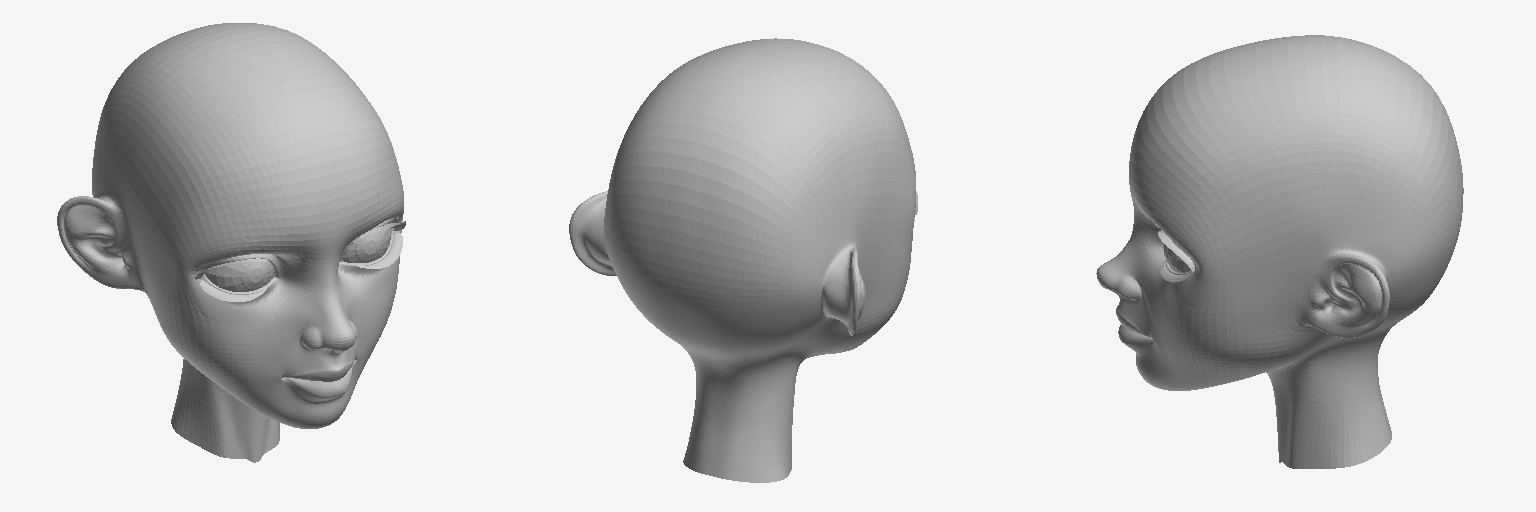
Rendered from Girl_Textured_Hi.obj.
3 views of the same model, side by side, from view 1: azimuth 30°, elevation 25°; view 2: azimuth 150°, elevation 25°; view 3: azimuth 270°, elevation 25° (orthographic).
Visible parts, largest first — view 1: Girl_Face_Circle, Cornea_Sphere.001, EyeLashes_Circle.002; view 2: Girl_Face_Circle; view 3: Girl_Face_Circle, EyeLashes_Circle.002.
Part boxes in pixels (x1,y1,x2,y2): Girl_Face_Circle: (57, 23, 403, 462); Cornea_Sphere.001: (205, 228, 391, 291); EyeLashes_Circle.002: (195, 221, 405, 301); Girl_Face_Circle: (569, 38, 915, 482); Girl_Face_Circle: (1096, 35, 1463, 468); EyeLashes_Circle.002: (1158, 230, 1194, 281).
Size of the model in its own units: 2.4 by 3.25 by 2.62.